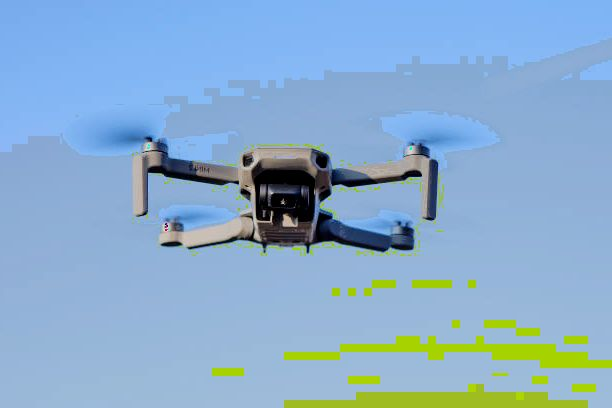Drone: (66, 104, 502, 262)
